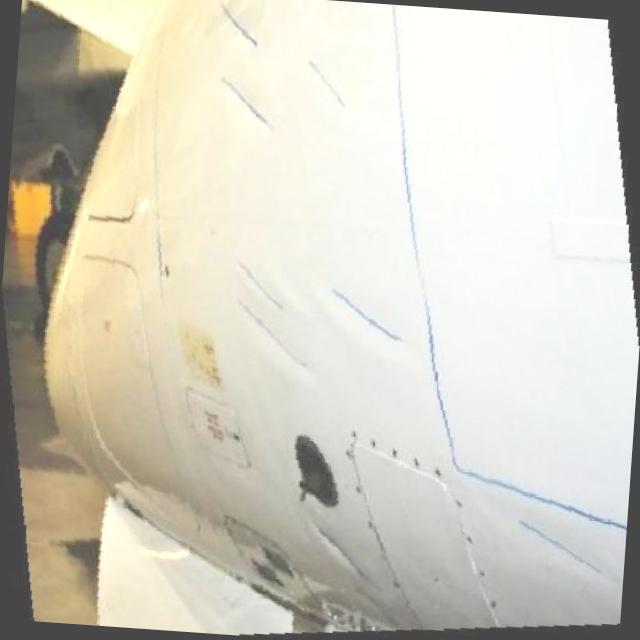dent: (228, 291, 318, 388), (496, 504, 610, 580), (308, 272, 418, 350), (302, 511, 384, 592), (226, 248, 292, 314), (225, 82, 279, 136), (216, 1, 262, 49)
